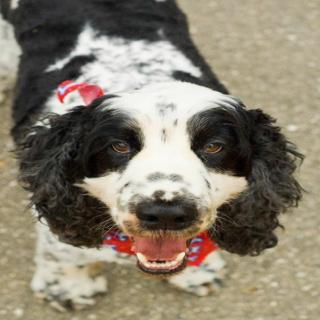dog: (15, 91, 314, 280)
nose: (131, 195, 199, 234)
